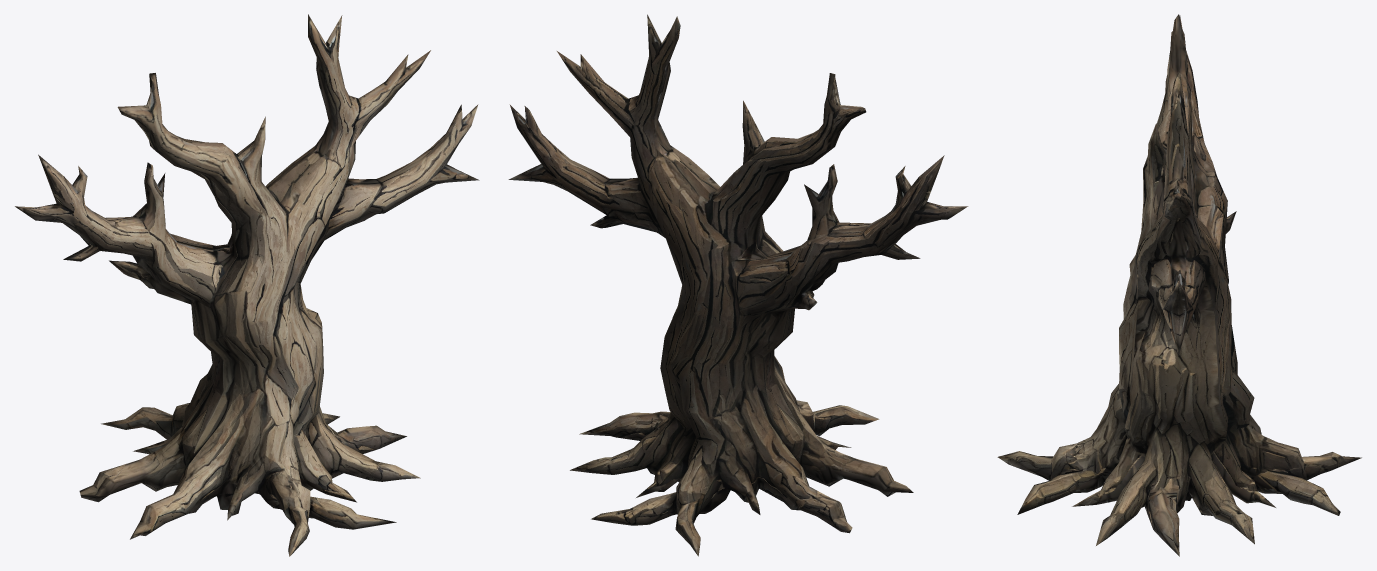
File: EX_Env_DeadTree.fbx
The picture shows the model from 3 angles, left to right: view 1: azimuth 30°, elevation 25°; view 2: azimuth 150°, elevation 25°; view 3: azimuth 270°, elevation 25°; orthographic projection.
Visible parts, largest first — view 1: texture_mapping; view 2: texture_mapping; view 3: texture_mapping.
Part boxes in pixels (box(x1,y1,x2,y2)): texture_mapping: box(15, 14, 479, 556); texture_mapping: box(508, 14, 968, 556); texture_mapping: box(997, 14, 1361, 556).
Size of the model in its own units: 0.9991 by 0.692 by 0.9424.
Materials: 1 (1 with a texture image).
